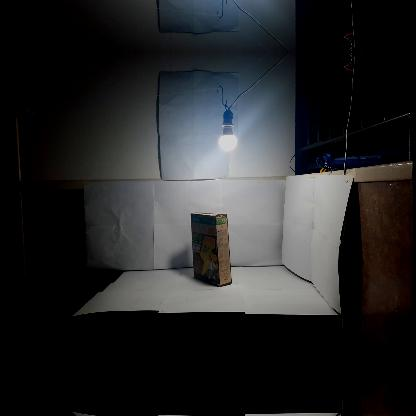Koko-Krunch: (190, 212, 232, 286)
